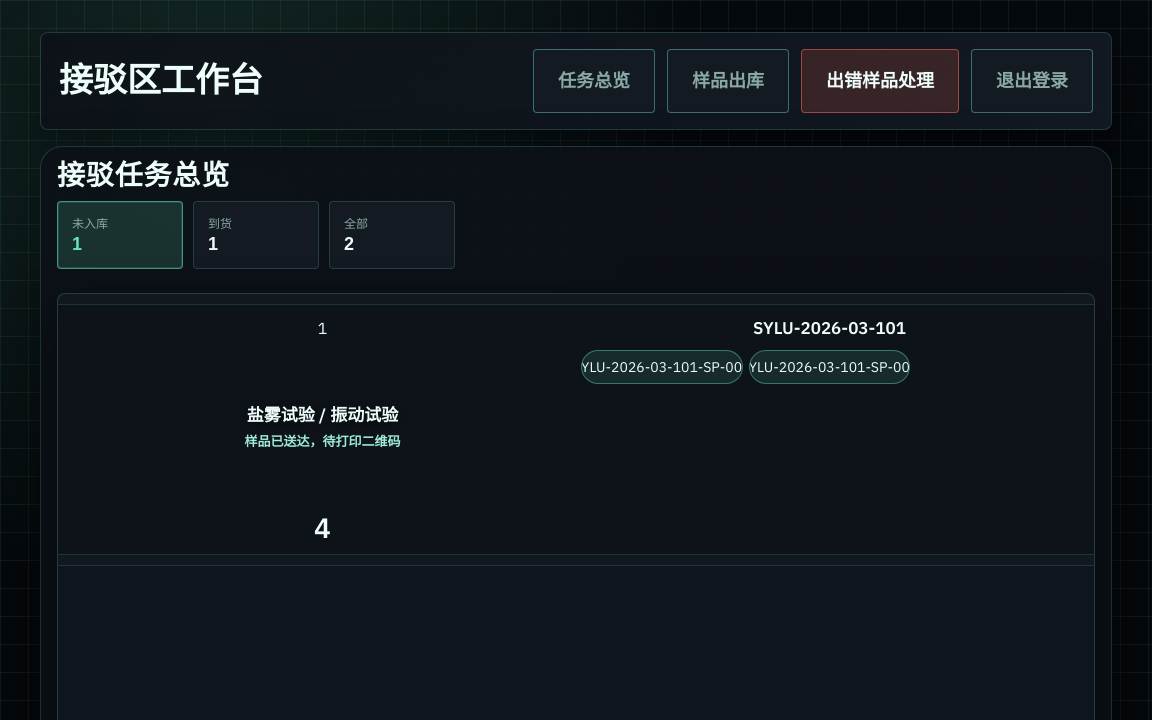
Scenario: TransferWorkbench runtime › handover overview nav returns from a hidden task detail to the task list
The width and height of the screenshot is (1152, 720).
What coordinates should you click on to do the following:
click the button with test id "transfer-task-row-101"
I would click on:
 (576, 429)
Its box is [58,304,1094,555].
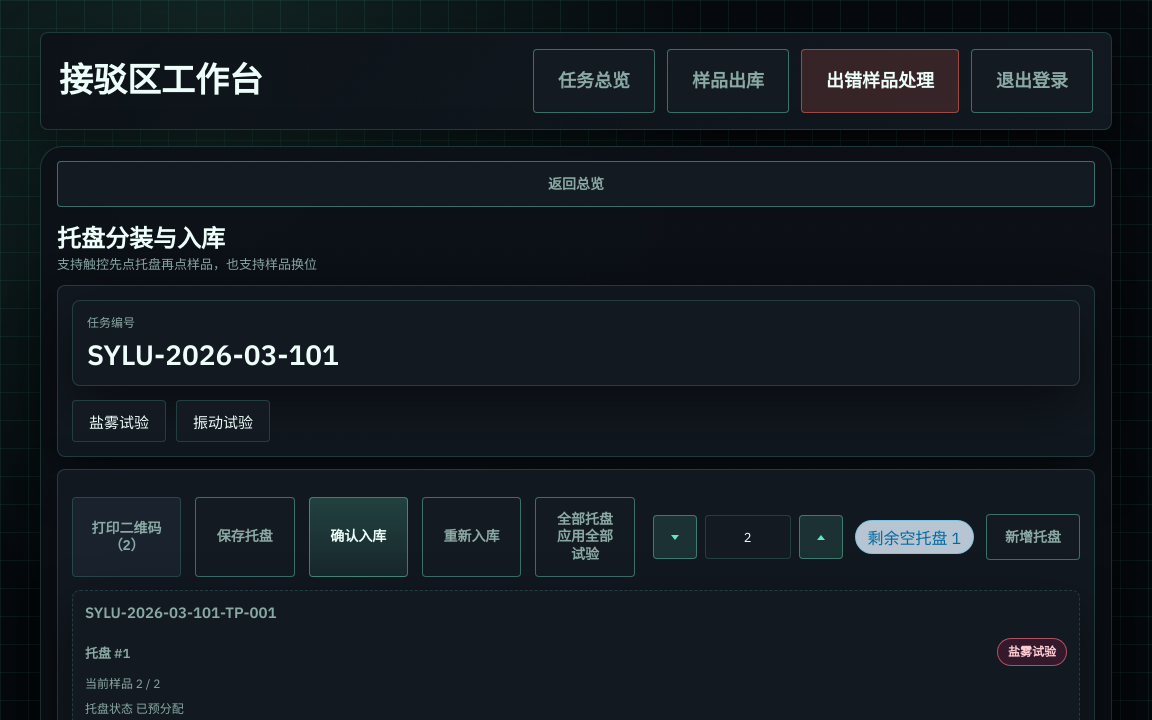
Result: the text with test id "transfer-task-code" reads "SYLU-2026-03-101" at [87,336,339,373]
What coordinates should you click on to do the following:
click the button with test id "handover-nav-dispatch"
I would click on:
 (728, 81)
Its box is [667,49,789,113].
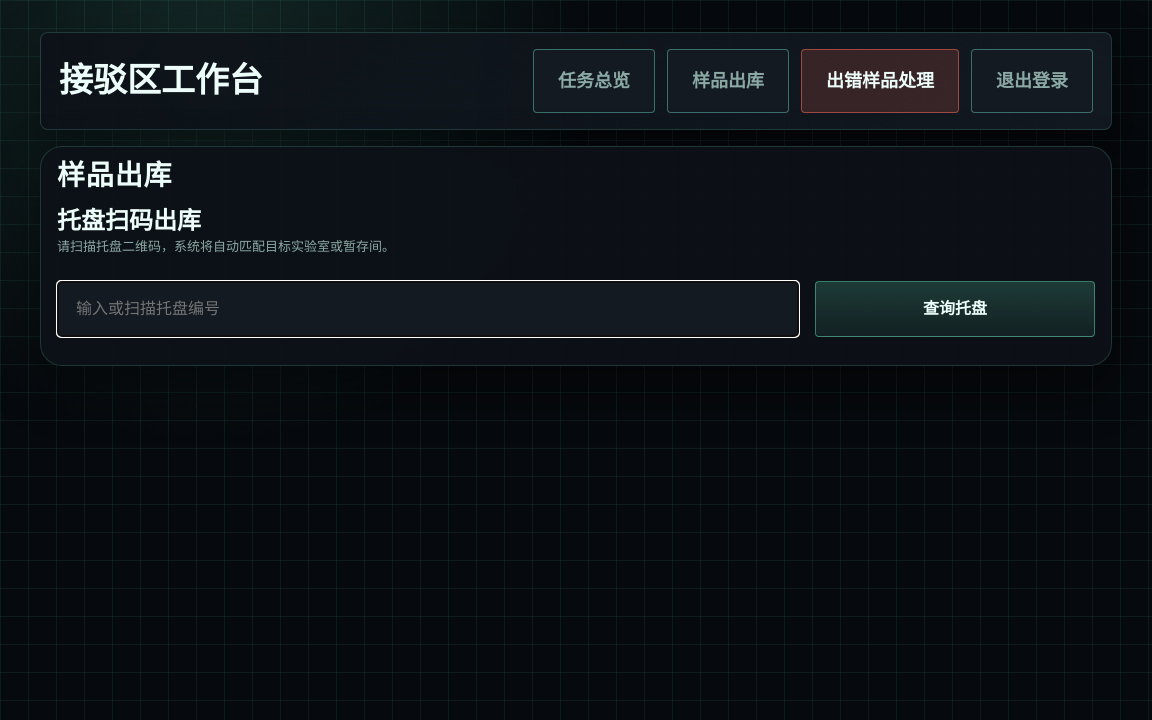
Result: the element with test id "transfer-dispatch-panel" is shown at [40,146,1112,366]
What coordinates should you click on to do the following:
click the button with test id "handover-nav-overview"
I would click on:
 (594, 81)
Its box is [533,49,655,113].
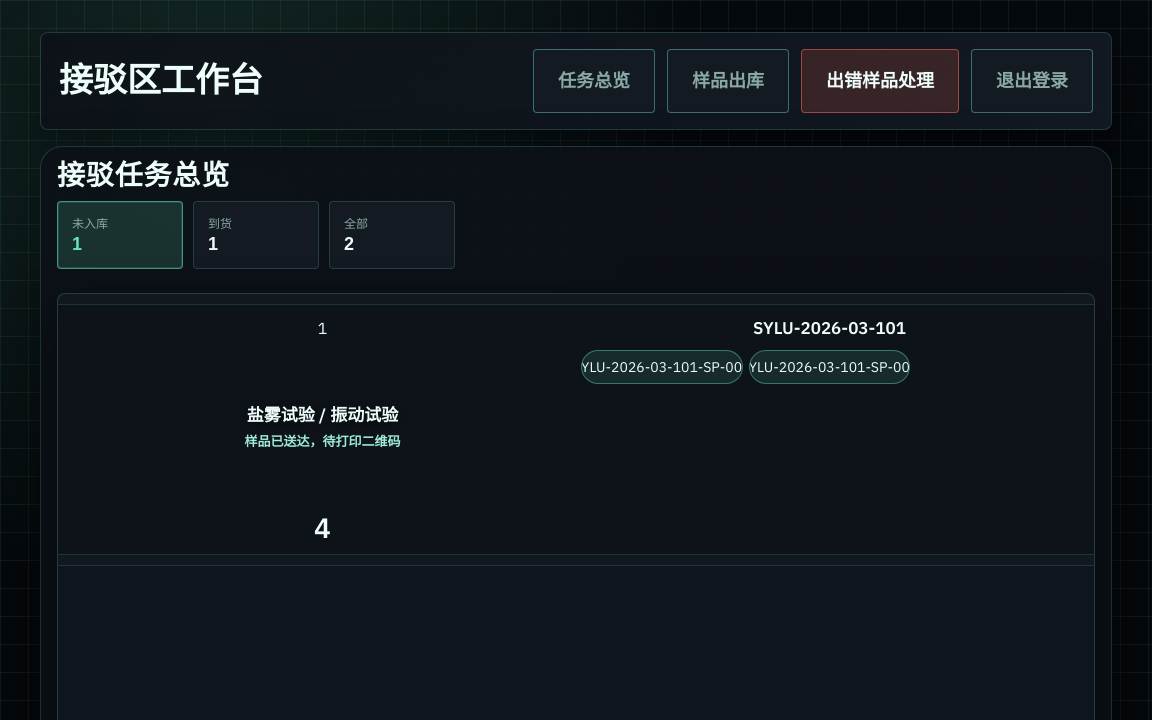
Result: the button with test id "transfer-task-row-101" is shown at [58,304,1094,555]
